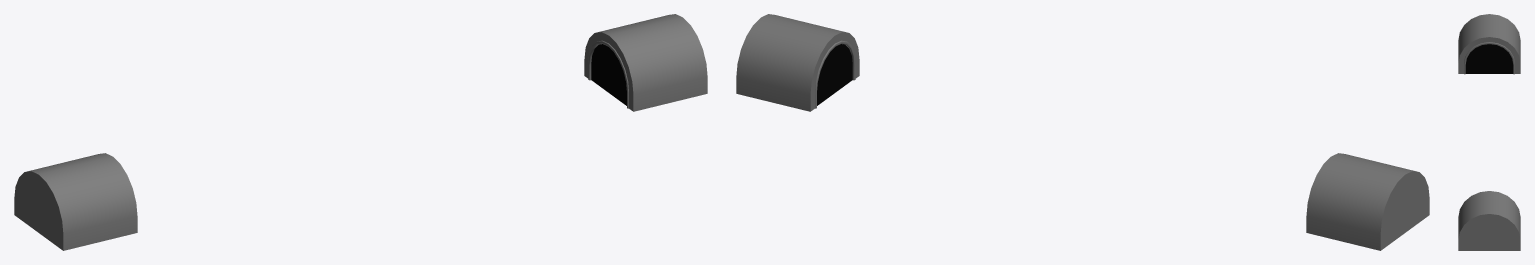
Rendered from tunnel.fbx.
3 renders of one model, left to right at view 1: azimuth 30°, elevation 25°; view 2: azimuth 150°, elevation 25°; view 3: azimuth 270°, elevation 25°, orthographic. The views are drawn at different scales.
Parts seen in each view (by area): view 1: 이것은터널입니까?, 네이것은터널입니다.; view 2: 이것은터널입니까?, 네이것은터널입니다.; view 3: 네이것은터널입니다., 이것은터널입니까?.
Boxes of the visible parts, left/top/right/bottom form: 이것은터널입니까?: left=14, top=153, right=137, bottom=250; 네이것은터널입니다.: left=584, top=14, right=707, bottom=111; 이것은터널입니까?: left=1306, top=153, right=1429, bottom=250; 네이것은터널입니다.: left=736, top=14, right=859, bottom=111; 네이것은터널입니다.: left=1458, top=191, right=1520, bottom=250; 이것은터널입니까?: left=1458, top=14, right=1520, bottom=74.
Size of the model in its own units: 4285 by 371 by 565.
